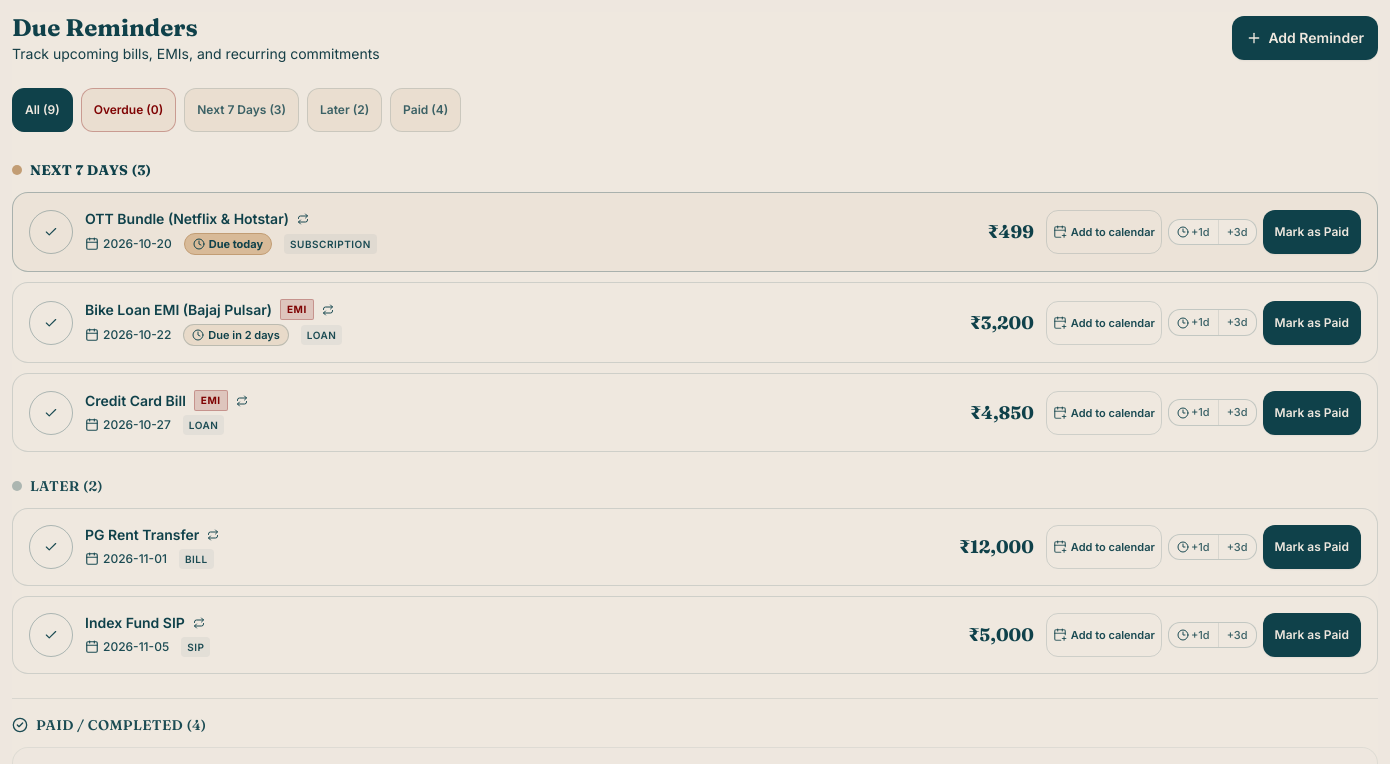
Scenario: RemindersScreen Component Suite › snoozes a reminder by 1 day and 3 days
The image size is (1390, 764).
Expected: the heading "Bike Loan EMI (Bajaj Pulsar)" is shown, [85,300,272,320]
Click snooze +1d on the Bike Loan EMI card
Click the button "+1d" in the row of "₹3,200" at (1194, 323), box [1169,310,1219,335]
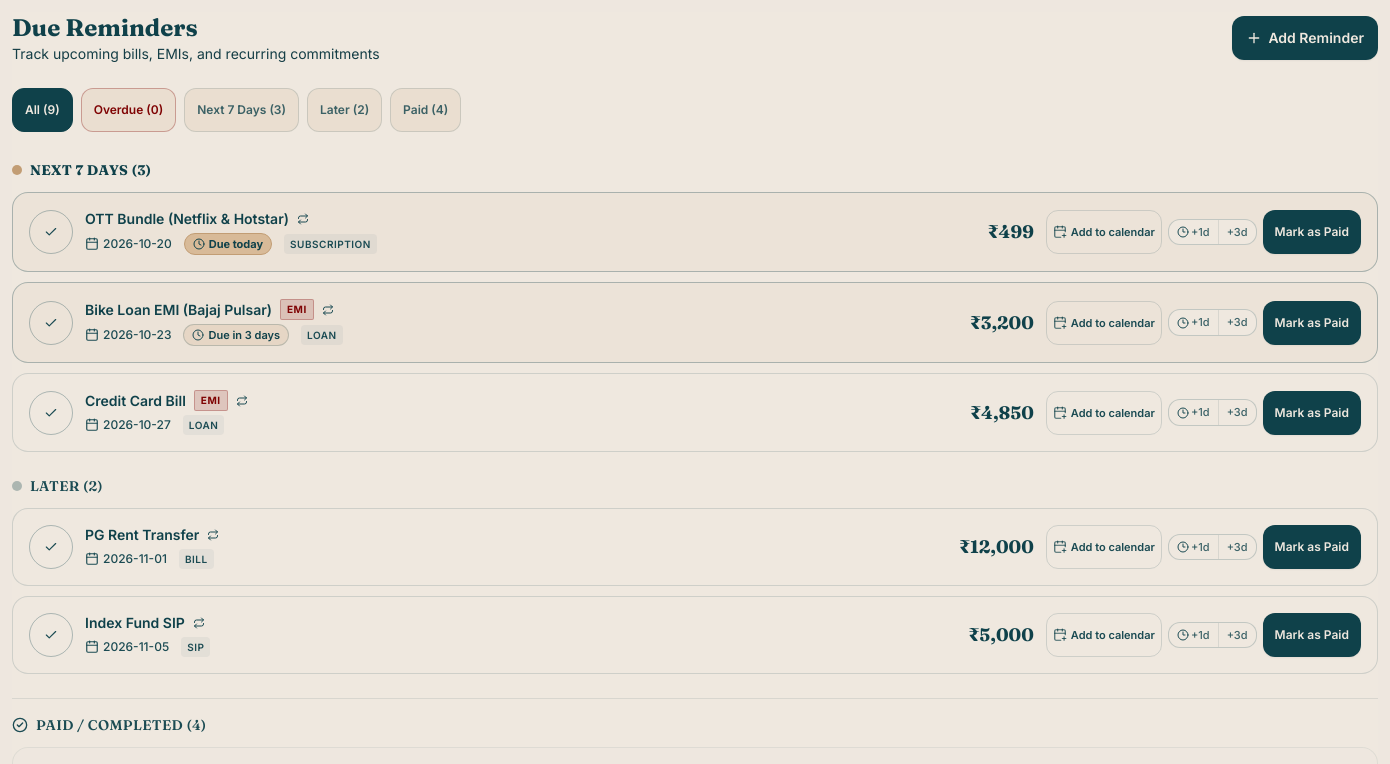
Now the text "2026-10-23" is shown, box [85,327,172,343]
Click snooze +3d on the Bike Loan EMI card
Click the button "+3d" in the row of "₹3,200" at (1237, 323), box [1219,310,1256,335]
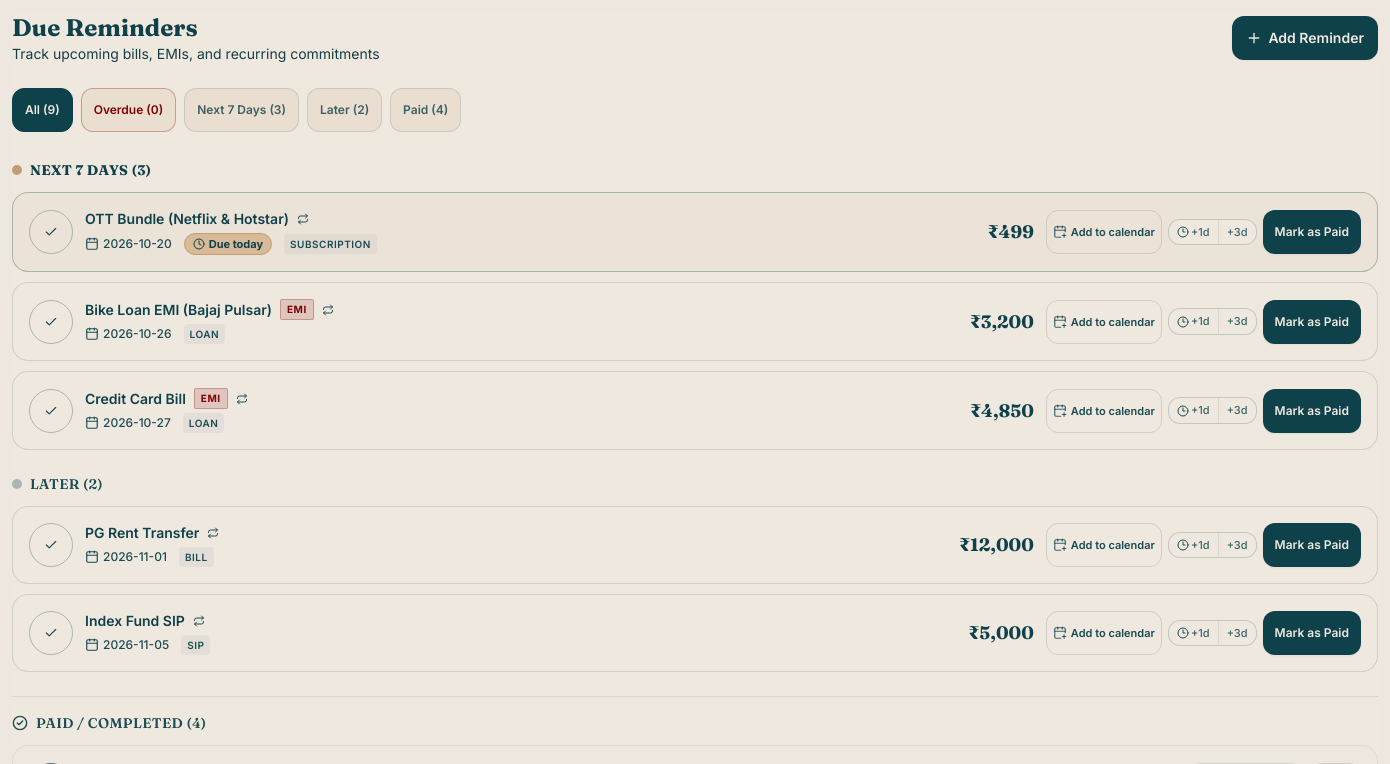
Now the text "2026-10-26" is shown, box [85,326,172,342]
